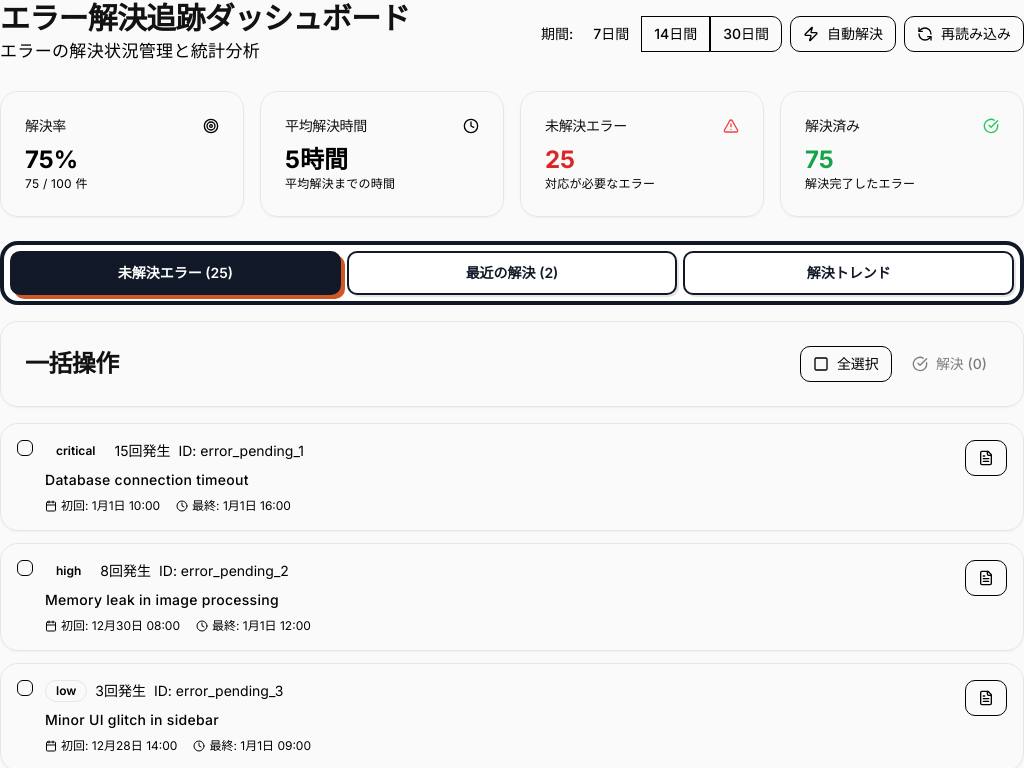
Test case: ErrorResolutionDashboard › 解決ノート機能テスト › 解決ノートダイアログが開くこと
Expected: the text "Database connection timeout" is shown, [45,471,249,488]
Note: 解決ノートボタンをクリック
Step 1. Click the button named "解決ノートを表示" in the row of "error_pending_1" → x=986, y=458, box [965,440,1007,476]
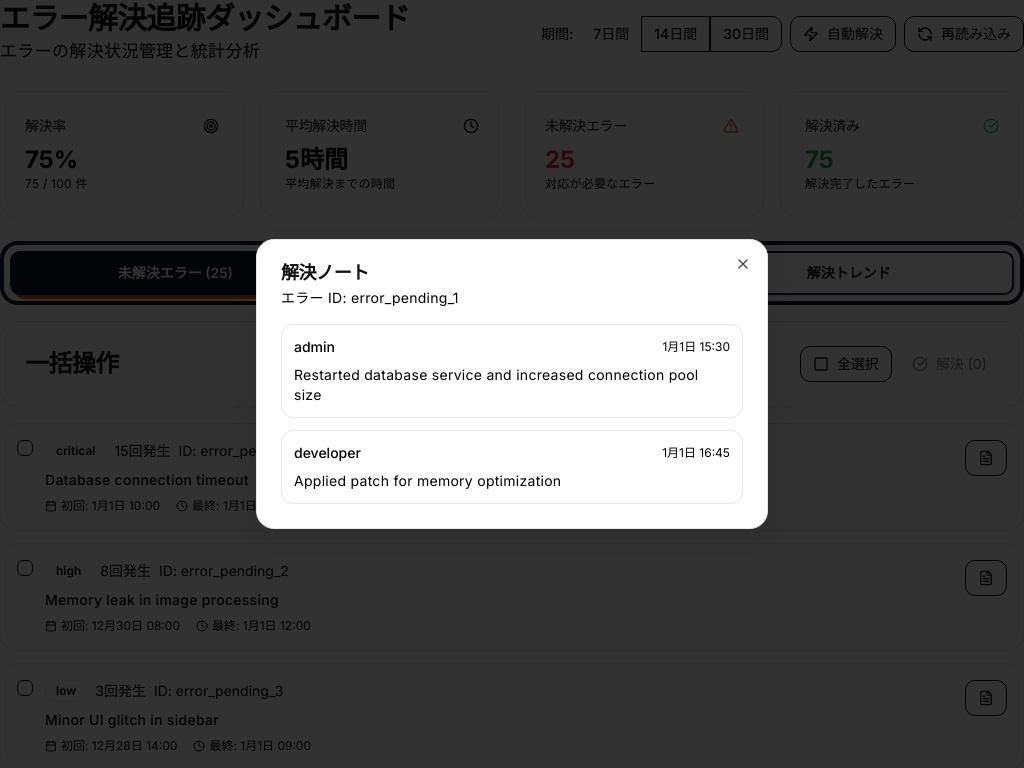
Expected: the heading "解決ノート" is shown, [281,262,369,283]
Expected: the text "エラー ID: error_pending_1" is shown, [281,289,459,306]
